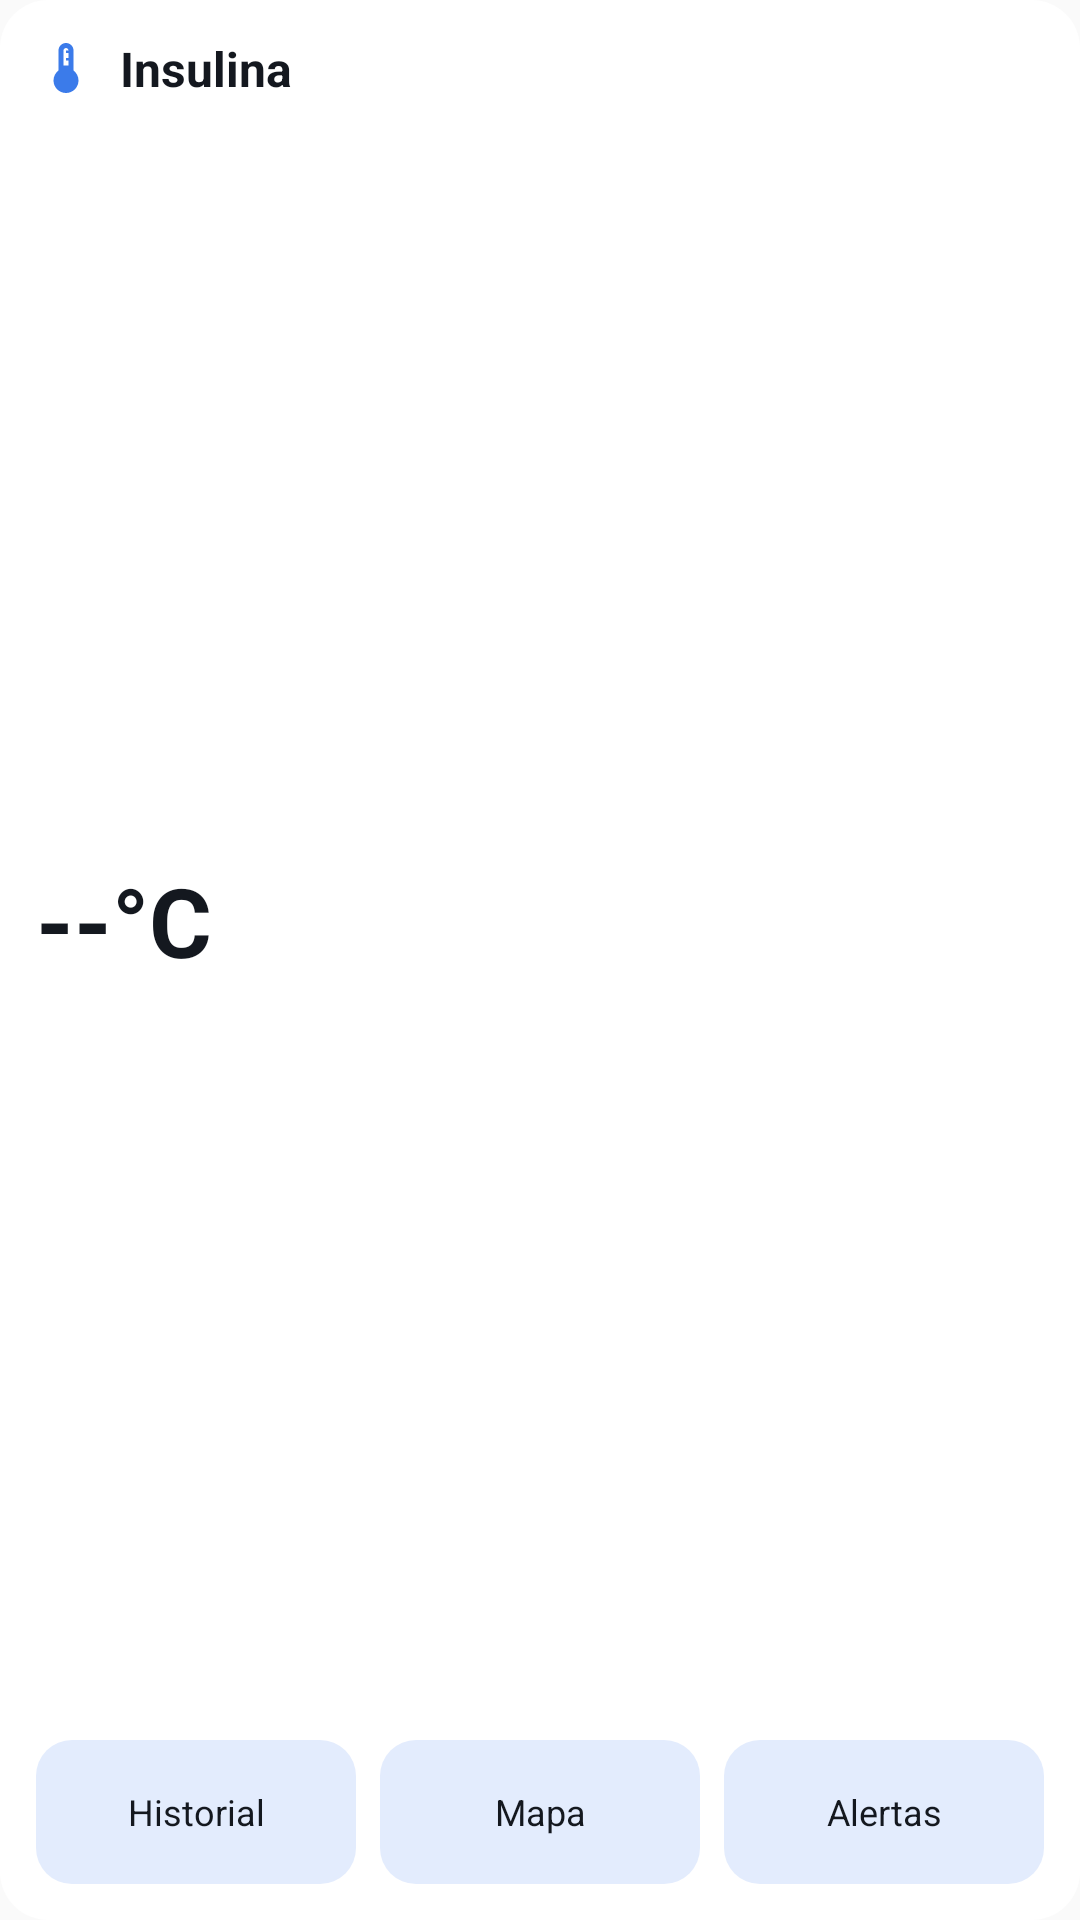

Icons on this 1080*1920 Android screen, each with the point to tap as [x,y]:
map thermometer: [66,68]
